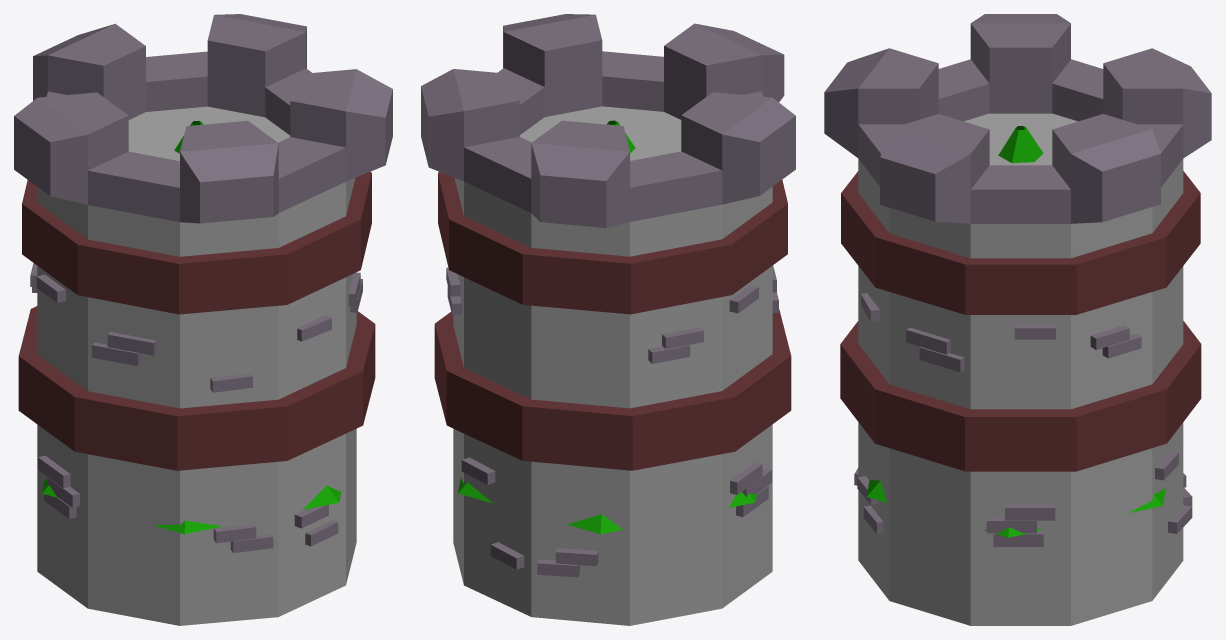
Rendered from StartingProp.fbx.
3 views of the same model, side by side, from view 1: azimuth 30°, elevation 25°; view 2: azimuth 150°, elevation 25°; view 3: azimuth 270°, elevation 25° (orthographic).
Parts seen in each view (by area): view 1: Cylinder, PineTree; view 2: Cylinder, PineTree; view 3: Cylinder, PineTree.
Boxes of the visible parts, x1,y1,x2,y2 form: Cylinder: [14, 14, 392, 625]; PineTree: [42, 121, 341, 534]; Cylinder: [421, 14, 795, 625]; PineTree: [458, 120, 756, 534]; Cylinder: [824, 14, 1211, 625]; PineTree: [866, 126, 1165, 537].
Bounding box in the file's own units: 450 × 641 × 477.
